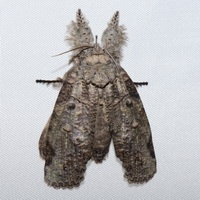insect: (37, 9, 155, 187)
